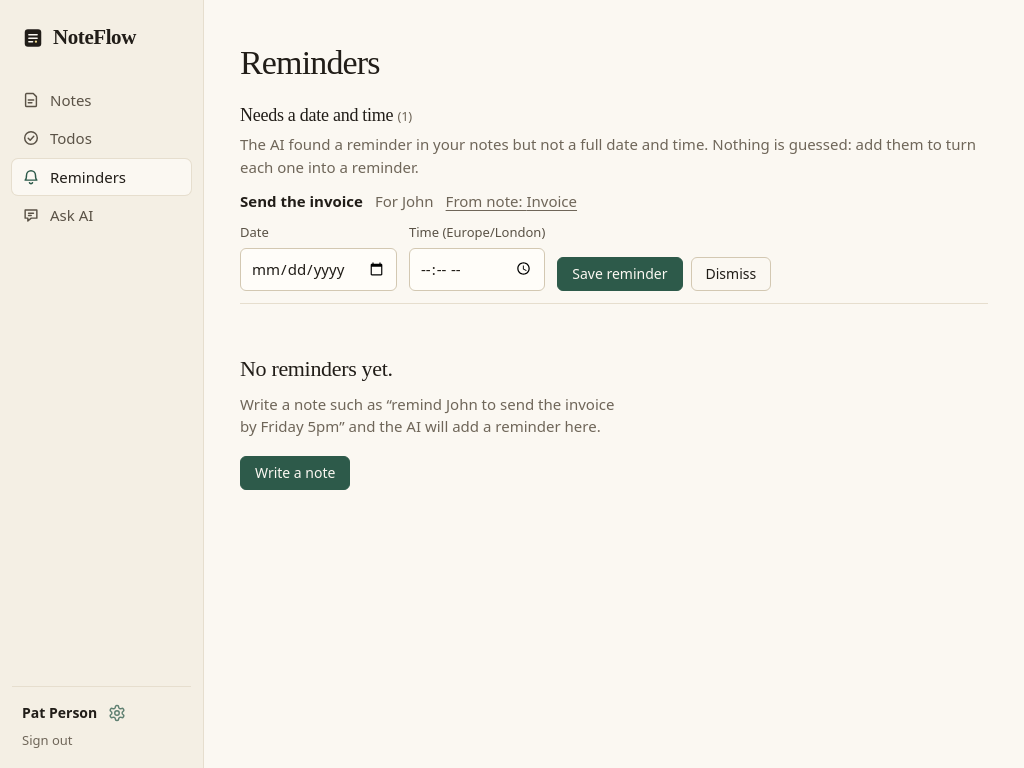
Scenario: reminders that still need a date and time › will not submit without a date for a one-off reminder
Step 1. Type "17:00" into the time field labelled "Time (Europe/London)" → (477, 269), box 409,248 -> 545,291
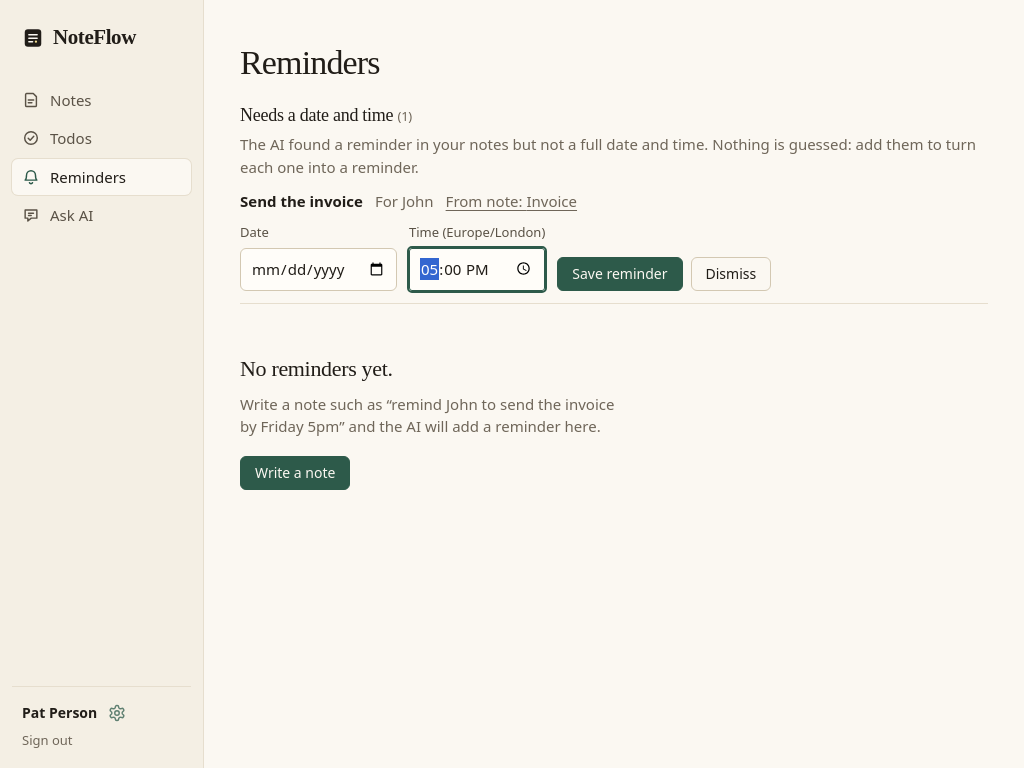
Step 2. Click the button "Save reminder" → (620, 274), box 557,257 -> 682,291
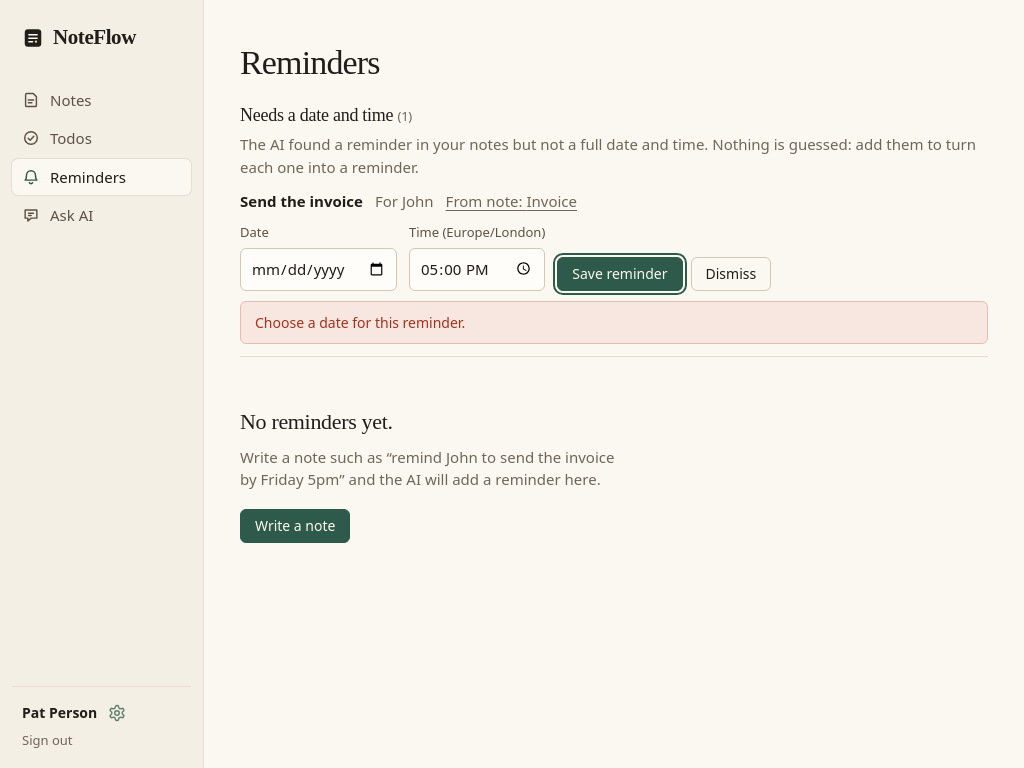
Now the message shows "Choose a date", box 255,313 -> 465,332
